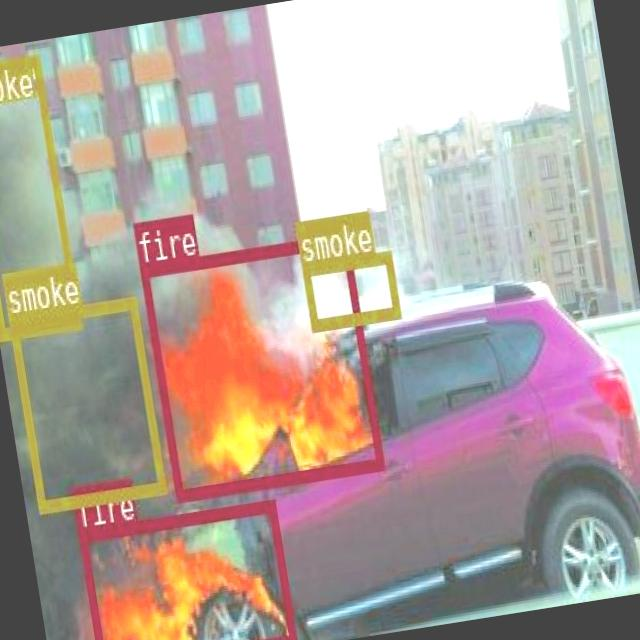fire: (138, 232, 383, 500), (77, 499, 295, 640)
smoke: (7, 294, 166, 511), (0, 53, 80, 338), (300, 248, 400, 329)
